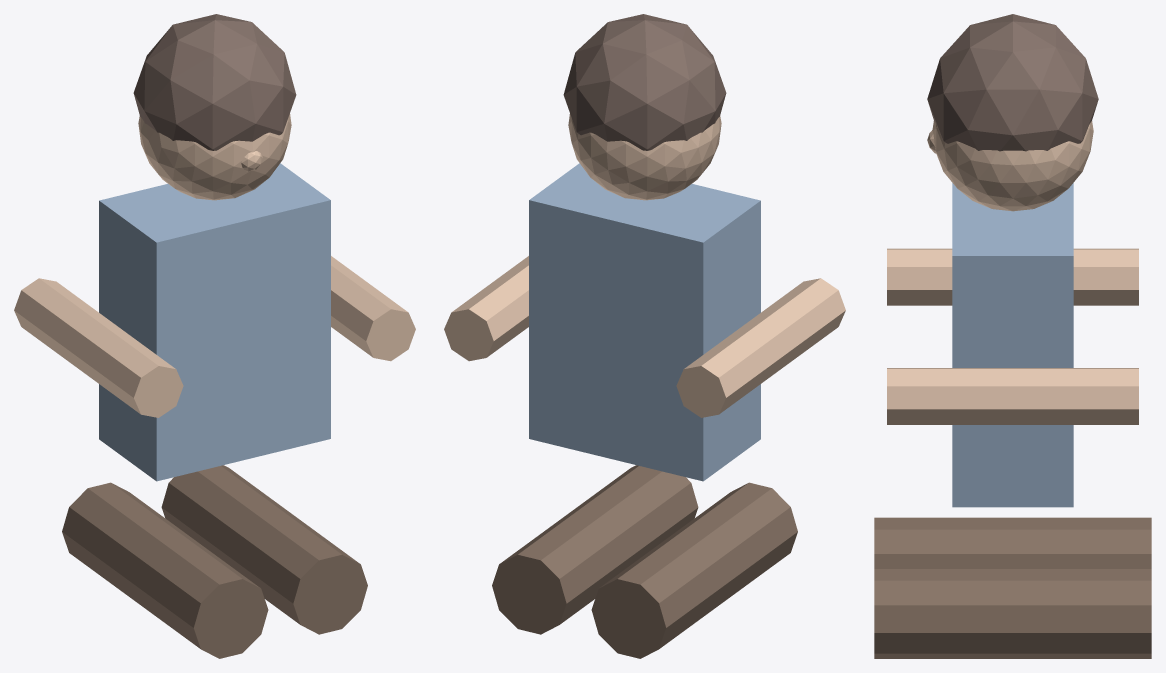
Rendered from sim_avatar_reference.glb.
3 views of the same model, side by side, from view 1: azimuth 30°, elevation 25°; view 2: azimuth 150°, elevation 25°; view 3: azimuth 270°, elevation 25° (orthographic). The views are drawn at different scales.
Visible parts, largest first — view 1: p002, p000, p001, p006, p003, p005, p004; view 2: p002, p000, p001, p006, p003, p005, p004; view 3: p002, p001, p006, p000, p004, p005, p003.
Boxes of the visible parts, x1,y1,x2,y2 form: p002: (99, 163, 330, 481); p000: (62, 482, 268, 658); p001: (161, 465, 367, 634); p006: (133, 14, 296, 150); p003: (14, 278, 183, 417); p005: (138, 114, 291, 200); p004: (331, 256, 415, 361); p002: (529, 163, 760, 481); p000: (591, 482, 797, 658); p001: (492, 465, 698, 634); p006: (563, 14, 726, 150); p003: (676, 278, 845, 417); p005: (568, 114, 721, 200); p004: (444, 256, 528, 361); p002: (952, 183, 1073, 507); p001: (874, 569, 1151, 658); p006: (927, 14, 1098, 151); p000: (874, 517, 1151, 568); p004: (887, 368, 1138, 424); p005: (932, 121, 1093, 211); p003: (887, 248, 1138, 305).
Bounding box in the file's own units: 0.68 × 1.33 × 0.55.
